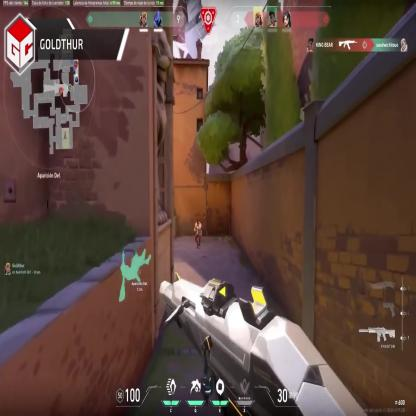enemy: (194, 216, 202, 250)
enemy_head: (196, 219, 199, 226)
